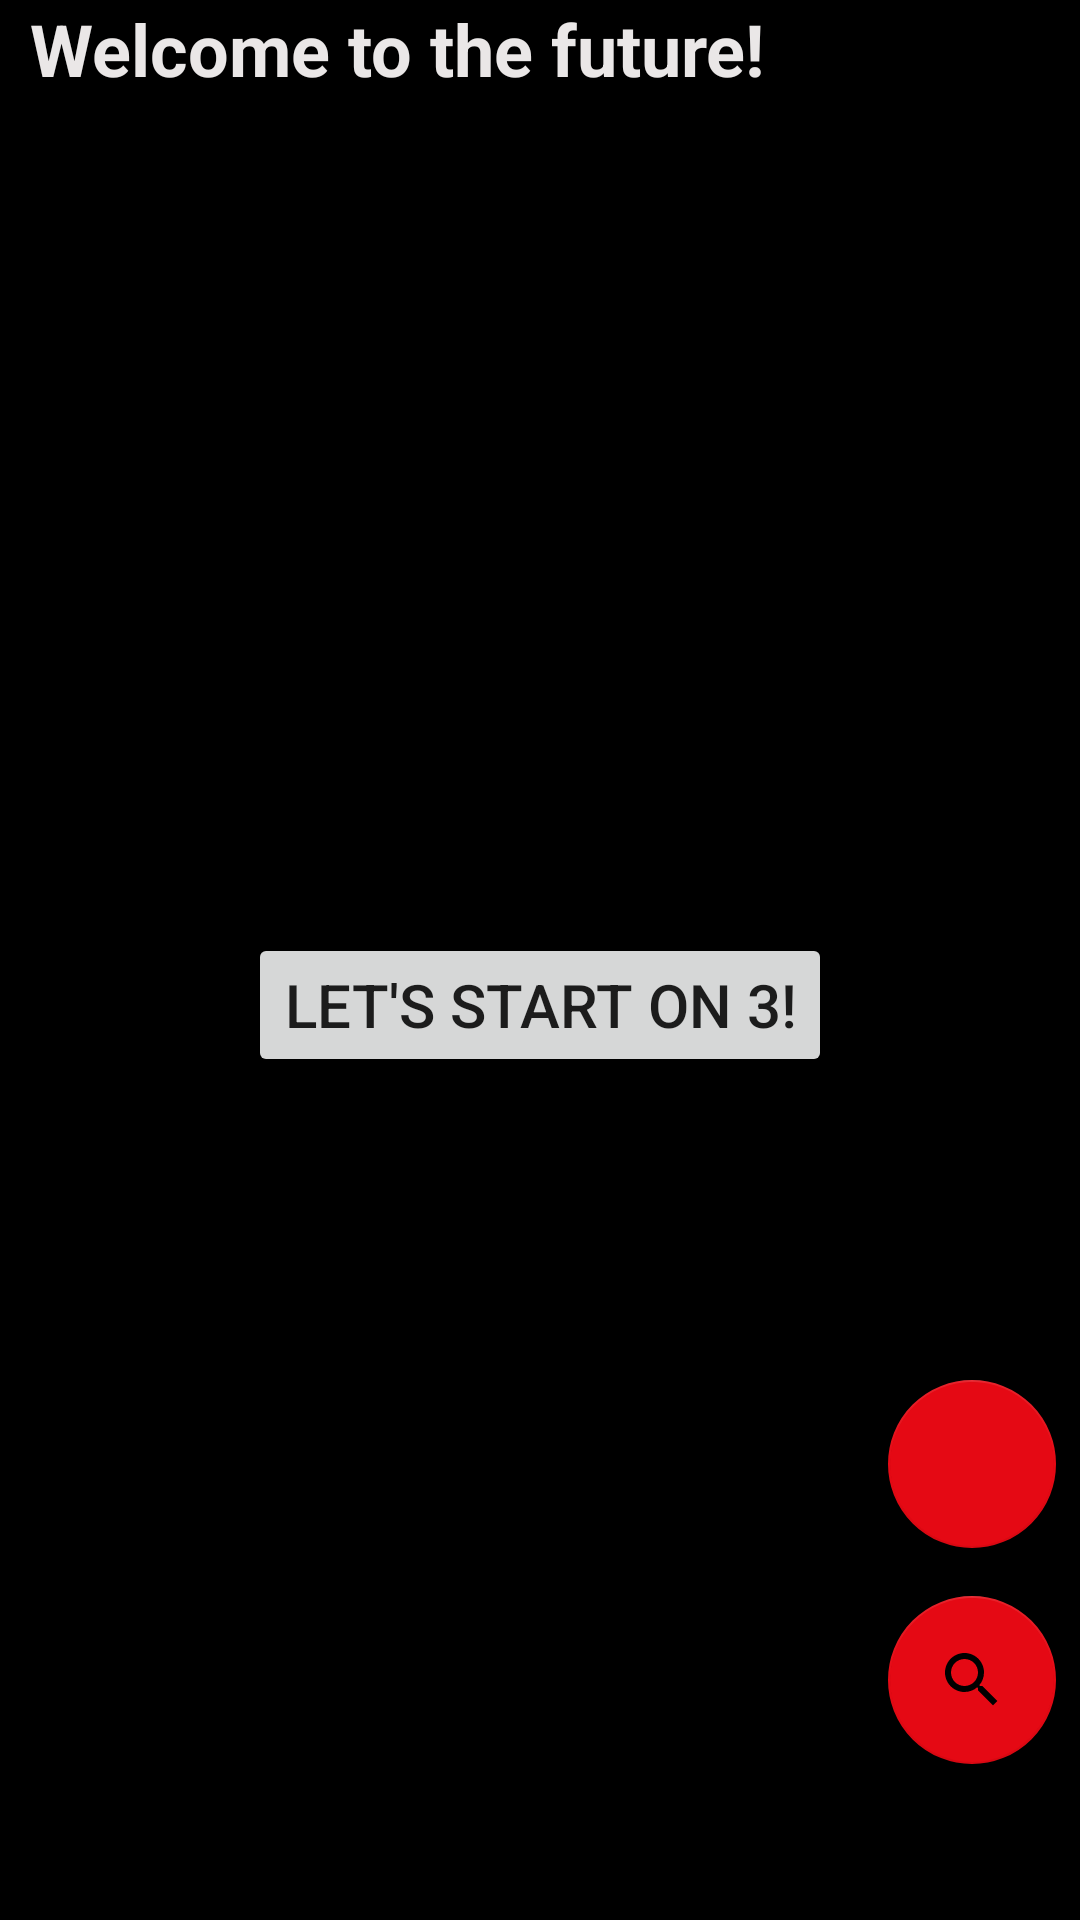

Where icons sit on this 1080*1920 app screen, as (x1, y1, x2, y2):
search: (888, 1596, 1056, 1764)
